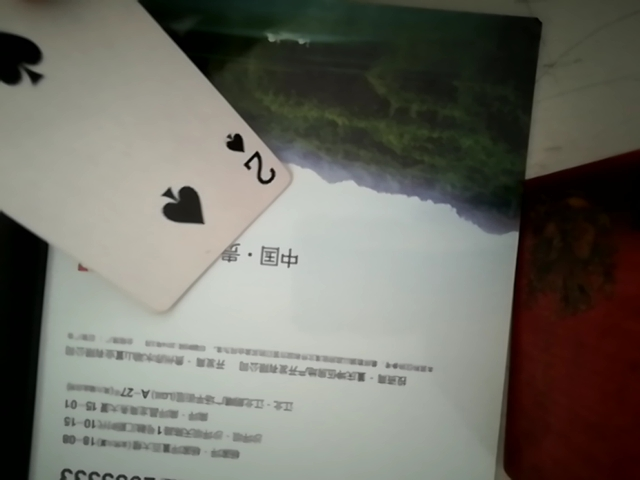ht 2: (1, 2, 281, 337)
